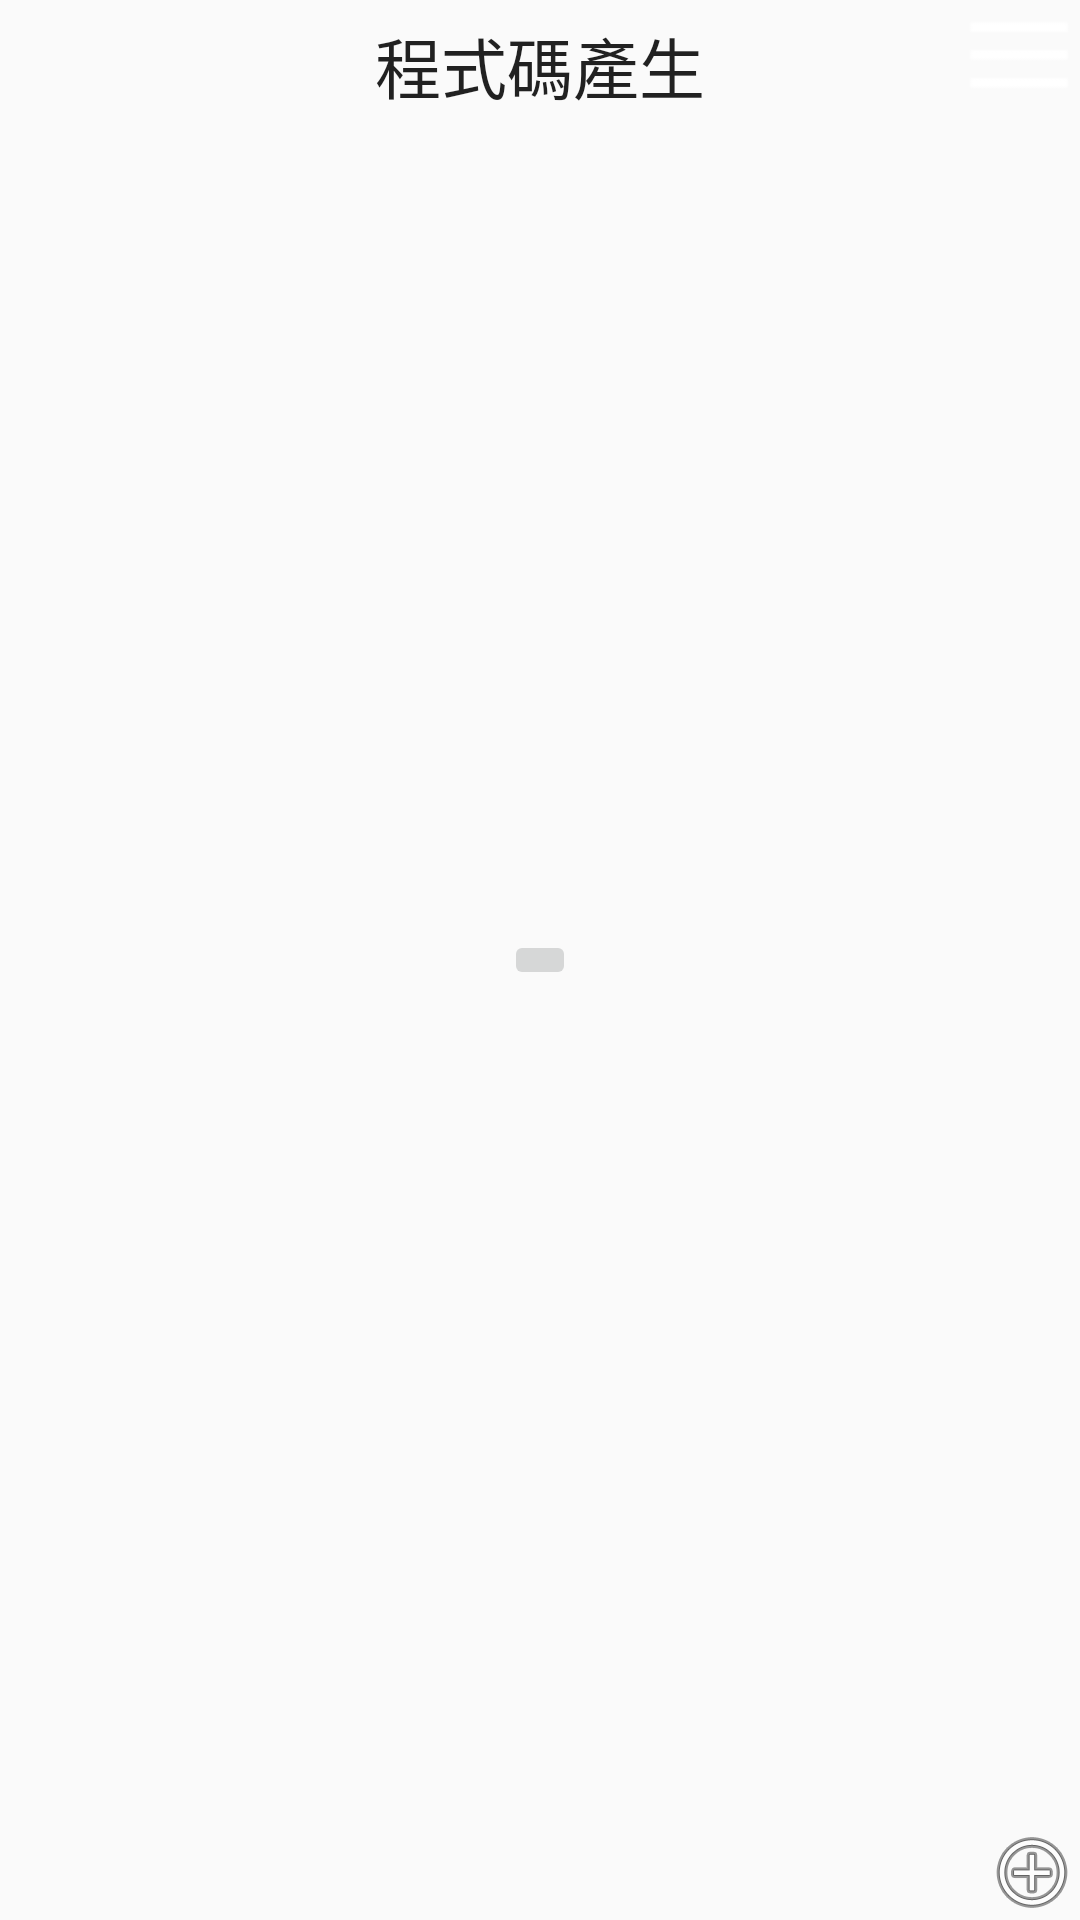

Where icons sit on this 1080 × 1920 app screen, as (x1, y1, x2, y2):
add: (996, 1837, 1068, 1908)
